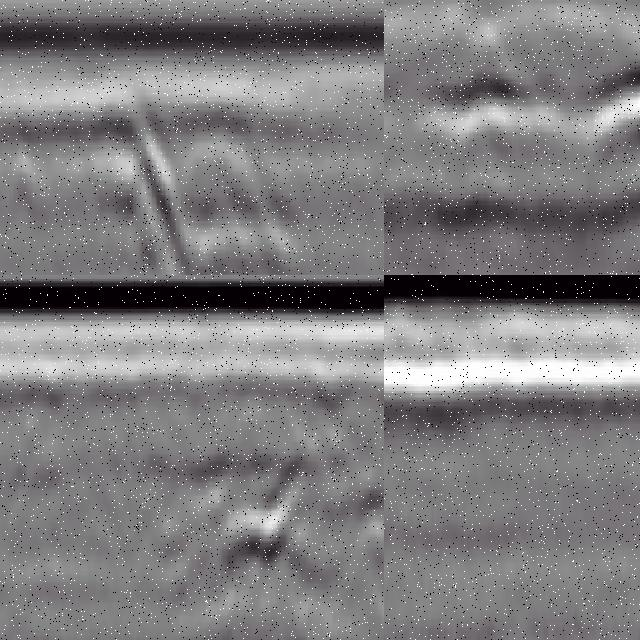crack: (118, 104, 167, 276), (385, 374, 406, 597)
loose: (422, 47, 640, 273), (178, 115, 298, 276), (208, 477, 351, 576)
